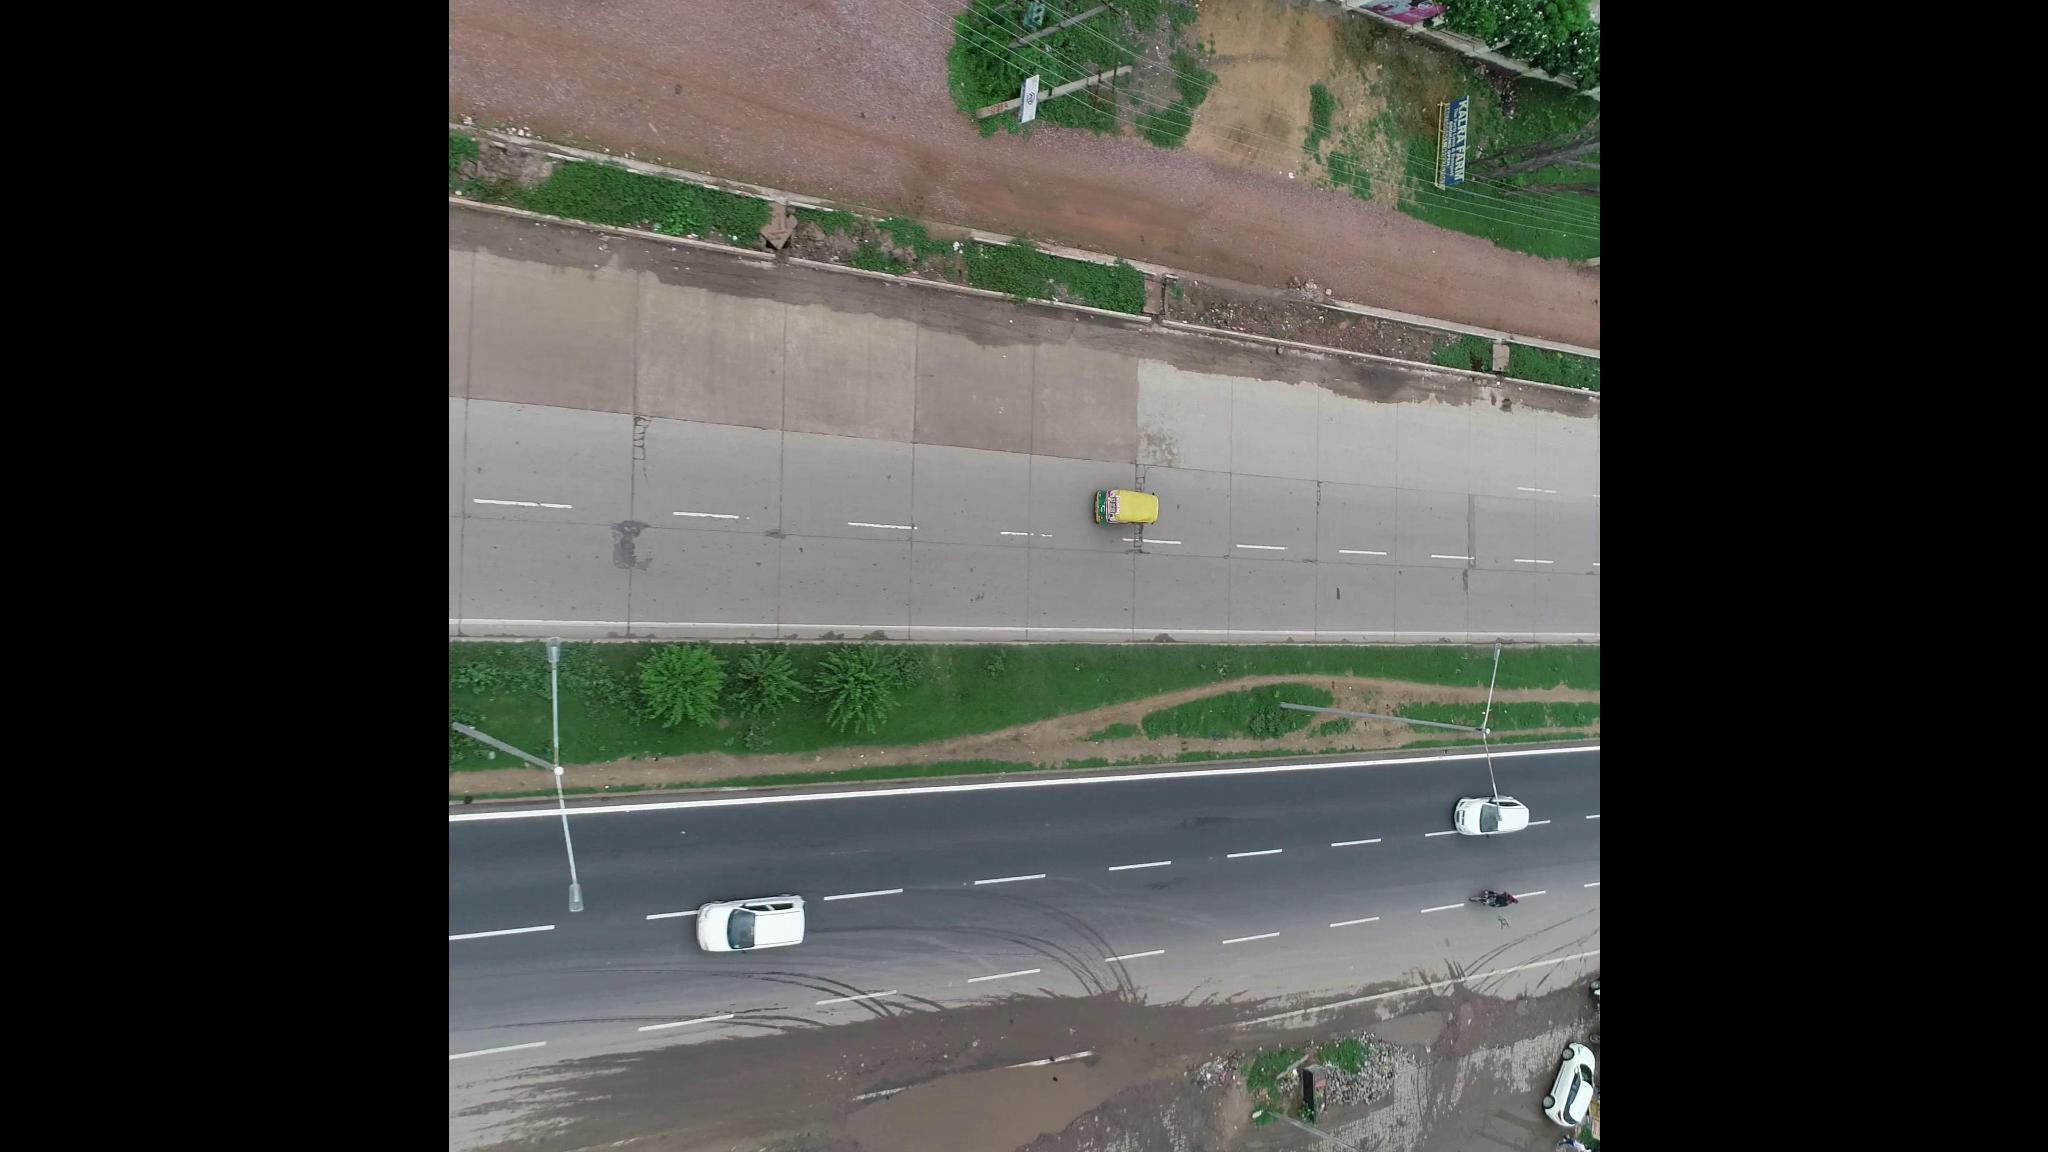Waterlogging: (819, 1018, 1167, 1152)
